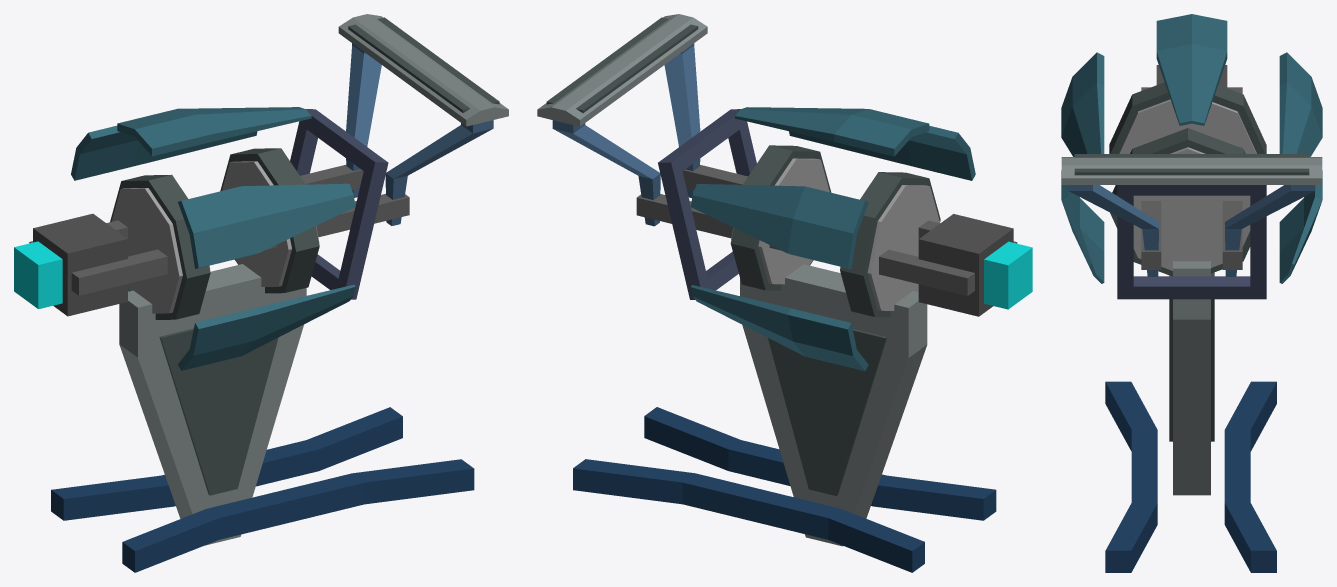
The model's file is Zug Modus.fbx.
The picture shows the model from 3 angles, left to right: view 1: azimuth 30°, elevation 25°; view 2: azimuth 150°, elevation 25°; view 3: azimuth 270°, elevation 25°; orthographic projection. The views are drawn at different scales.
Visible parts, largest first — view 1: Cube.006, Cube; view 2: Cube.006, Cube; view 3: Cube.006, Cube.
Boxes of the visible parts, bbox=[...] form: Cube.006: bbox=[14, 14, 508, 545]; Cube: bbox=[51, 407, 474, 572]; Cube.006: bbox=[537, 14, 1032, 546]; Cube: bbox=[573, 407, 996, 572]; Cube.006: bbox=[1061, 14, 1322, 495]; Cube: bbox=[1105, 381, 1276, 572].
Bounding box in the file's own units: 576 × 557 × 304.
